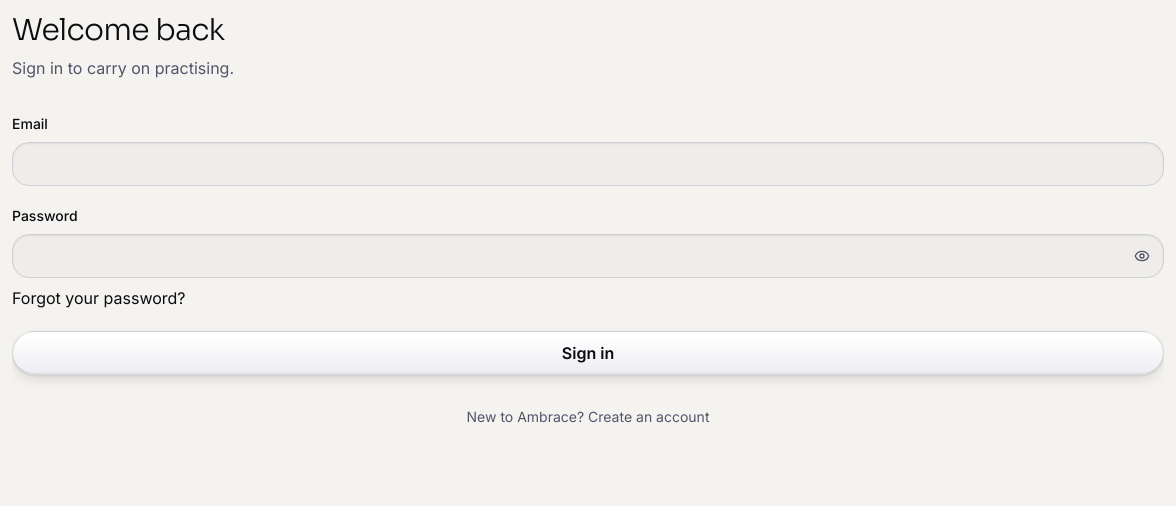
a sign-in step this app does not offer is reported, not left hanging
The width and height of the screenshot is (1176, 506).
Type "asha@example.com" into the field labelled "Email" at (588,164), box top-left (12, 142), bottom-right (1164, 186)
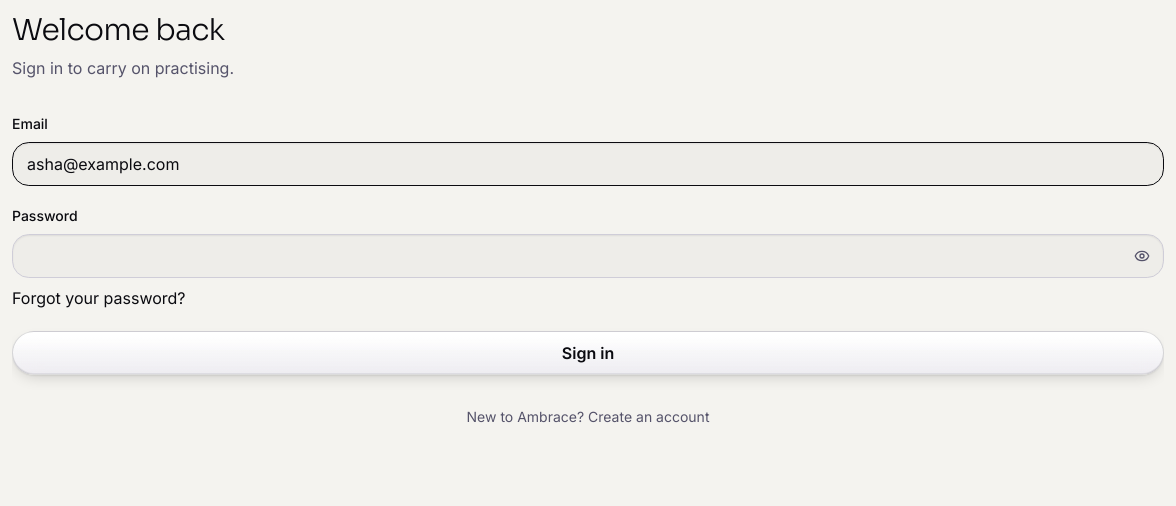
Type "Secret123" into the password field labelled "Password" at (588,256), box top-left (12, 234), bottom-right (1164, 278)
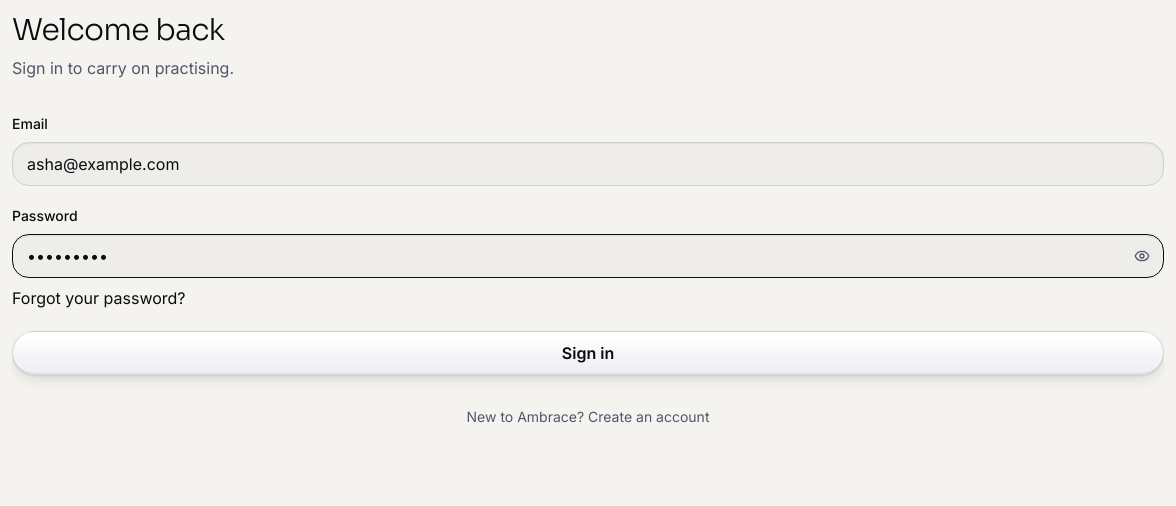
Click the button "Sign in" at (588,353), box top-left (12, 331), bottom-right (1164, 375)
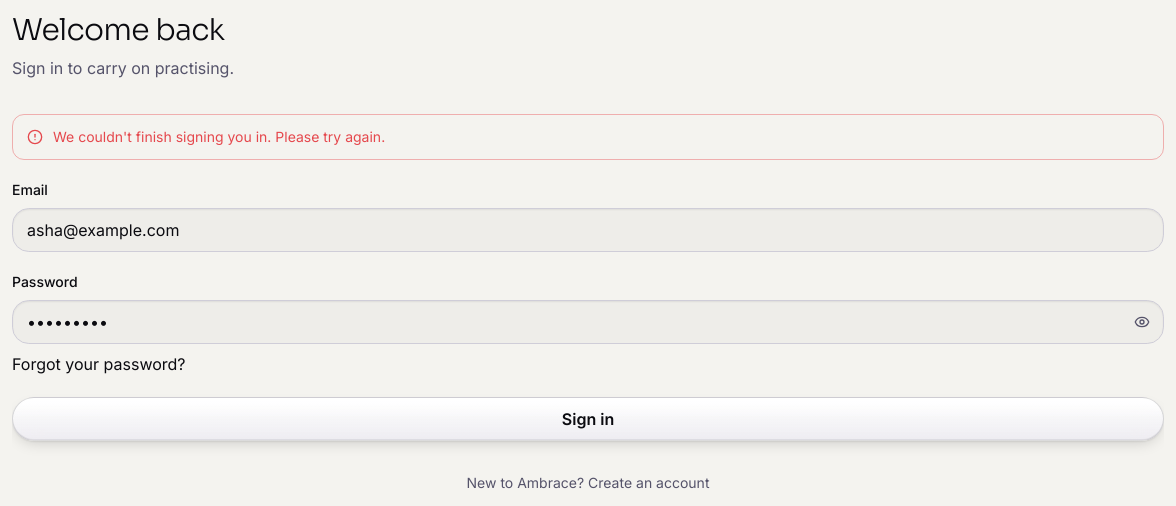
Now the message shows "couldn't finish signing you in", box top-left (53, 128), bottom-right (385, 145)
